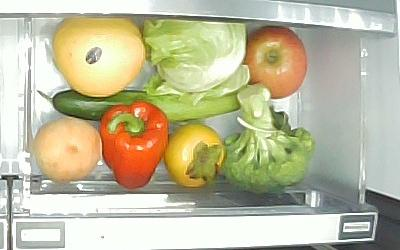apple: (245, 26, 309, 99)
broccoli: (218, 85, 313, 193)
cucumber: (36, 84, 241, 121)
grapefruit: (51, 17, 145, 97)
lettuce: (142, 19, 246, 97)
paprika: (100, 101, 170, 190)
peach: (34, 118, 102, 184)
persimmon: (166, 122, 225, 190)
